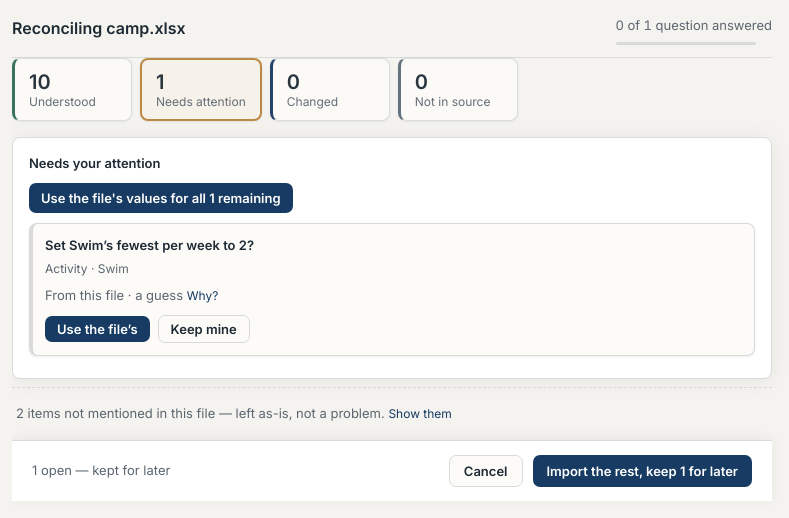
last-issued-wins guard (ADR Risk #3) › a stale, out-of-order dry-run response never overwrites a newer in-flight one
Expected: the text "0 of 1 question answered" is shown, [616, 16, 772, 36]
# First triage action: schedules the debounced re-issue (gen 2).
Step 1. Click the button "Use the file’s" → (97, 329), box [45, 316, 150, 342]
Wait 250 ms
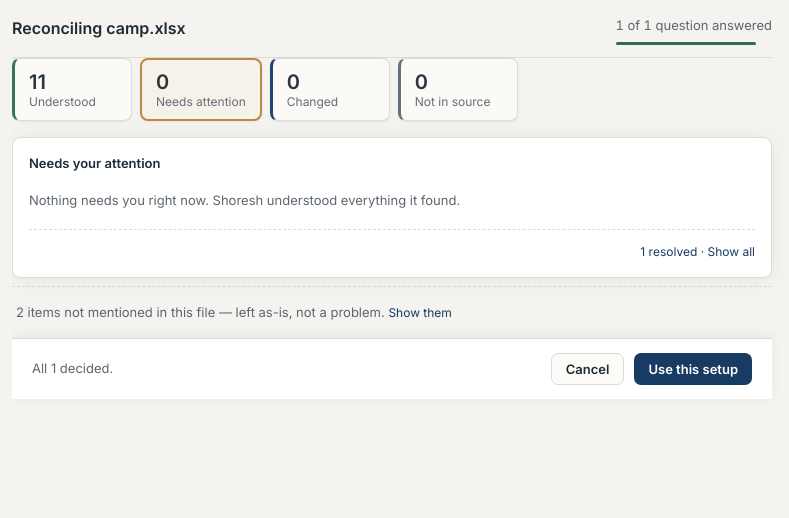
Step 2. Click the button "1 resolved · Show all" → (698, 251), box [640, 244, 755, 258]
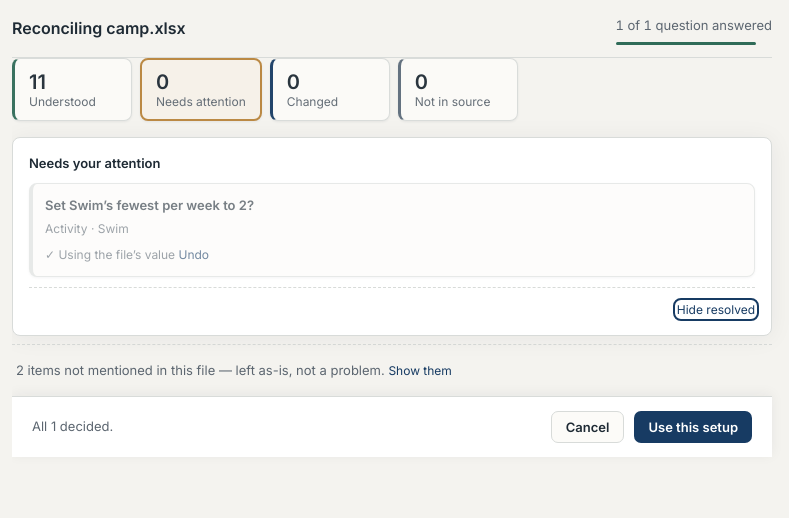
# Second triage action before gen 2 resolves: schedules gen 3.
Step 3. Click the button "Undo" → (194, 254), box [178, 246, 209, 262]
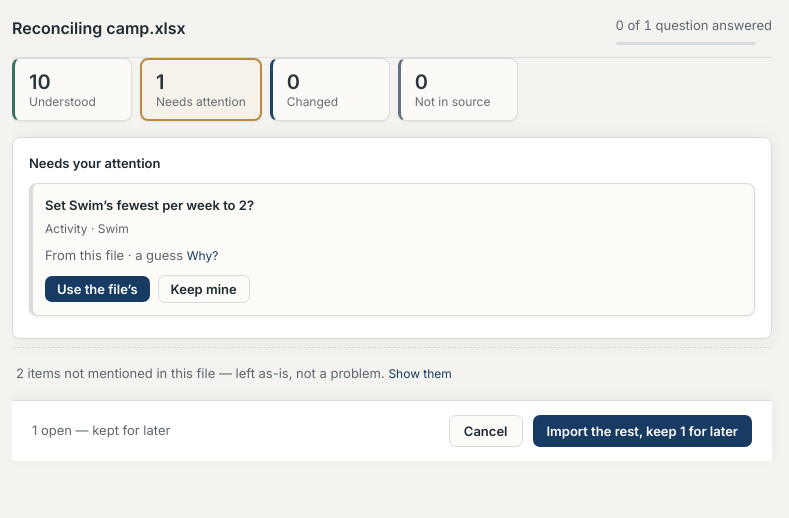
Step 4. Click the button "Use the file’s" → (97, 289), box [45, 276, 150, 302]
Wait 250 ms
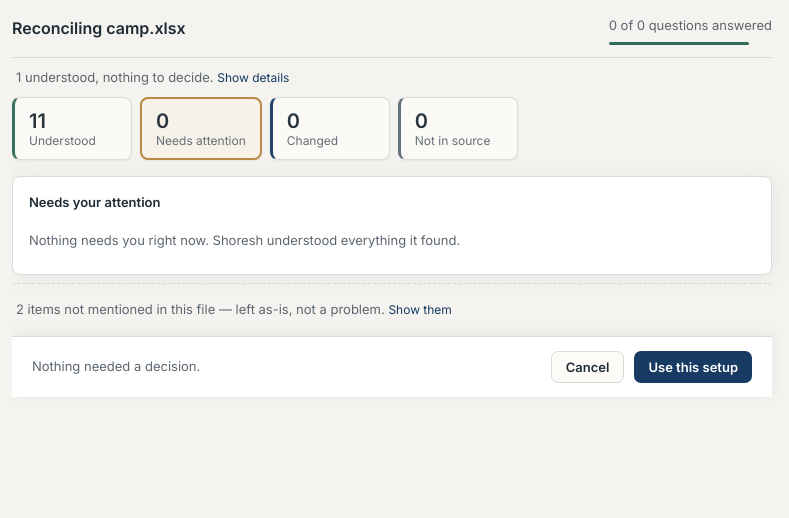
Expected: the text "0 of 0 questions answered" is shown, [609, 16, 772, 36]
